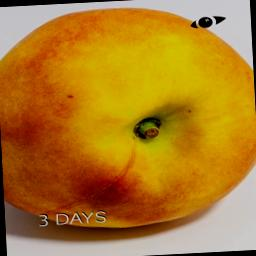Peach Unripe: (0, 0, 256, 234)
